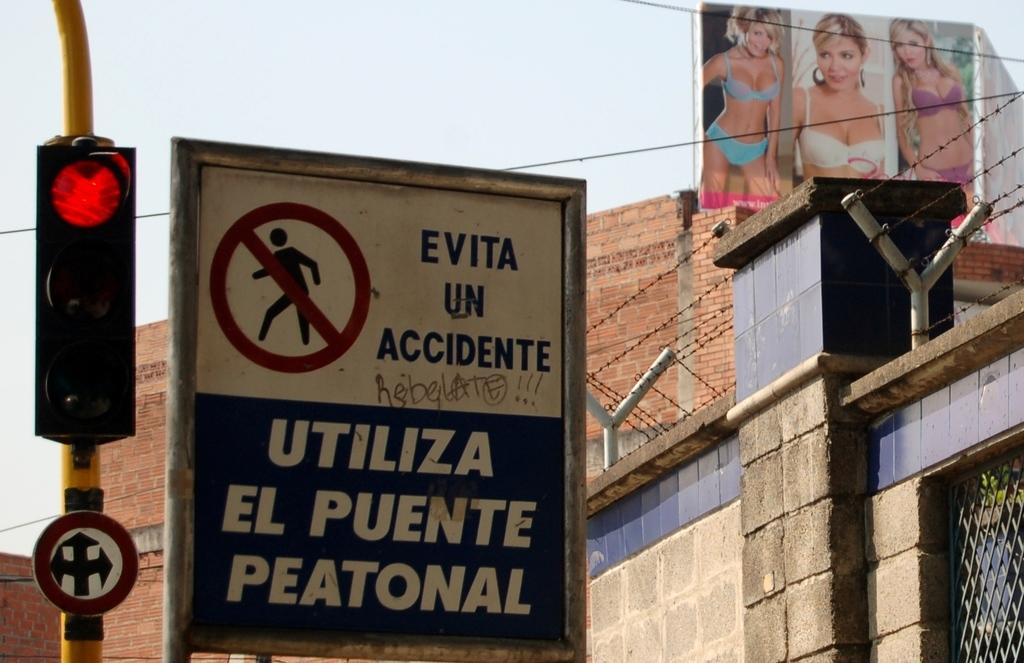red_light: (35, 145, 137, 435)
